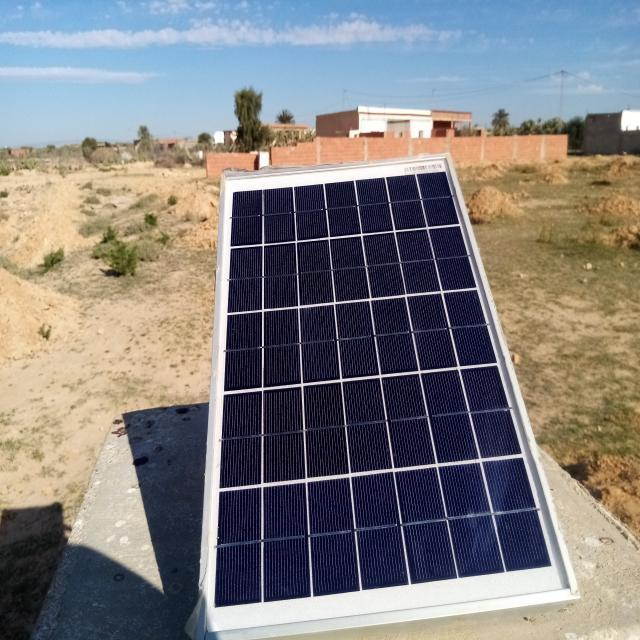Normal Solar Panel: (205, 158, 574, 640)
